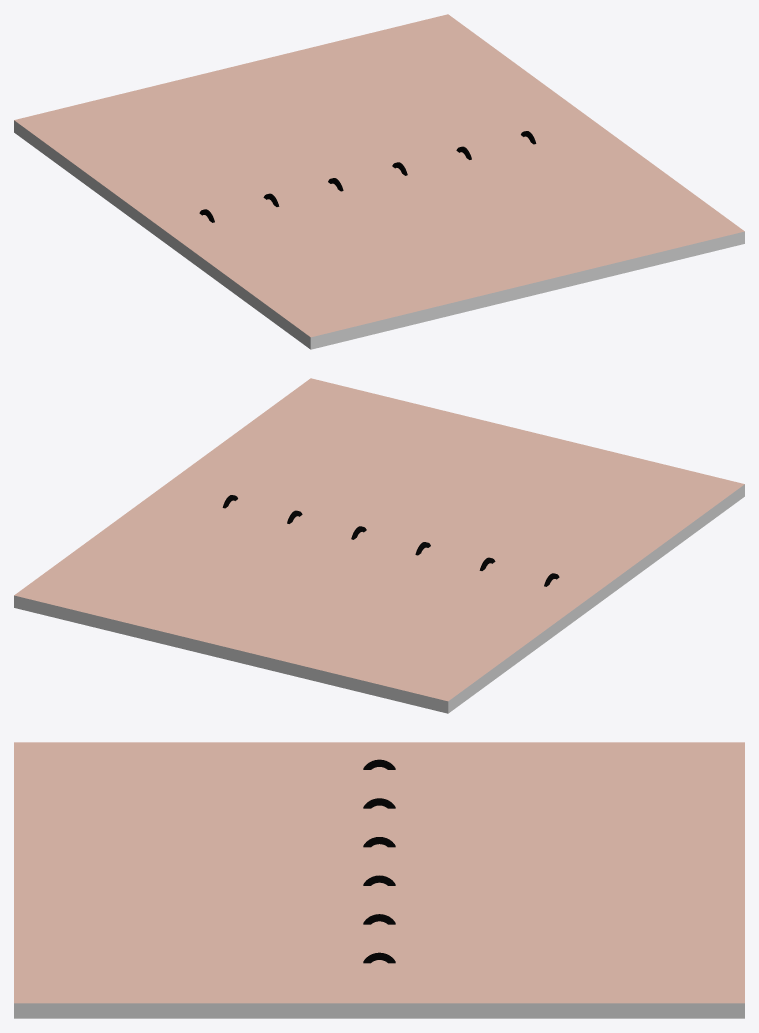
Rendered from PaperNotebook_fbx.fbx.
3 views of the same model, one above another, from view 1: azimuth 30°, elevation 25°; view 2: azimuth 150°, elevation 25°; view 3: azimuth 270°, elevation 25° (orthographic). The views are drawn at different scales.
Visible parts, largest first — view 1: Page2, Page1; view 2: Page1, Page2; view 3: Page1, Page2.
Boxes of the visible parts, left/top/right/bottom form: Page2: left=162, top=123, right=744, bottom=349; Page1: left=14, top=14, right=596, bottom=240; Page1: left=14, top=487, right=596, bottom=713; Page2: left=162, top=378, right=744, bottom=604; Page1: left=379, top=742, right=744, bottom=1018; Page2: left=14, top=742, right=379, bottom=1018.
Bounding box in the file's own units: 338 × 20 × 400.
